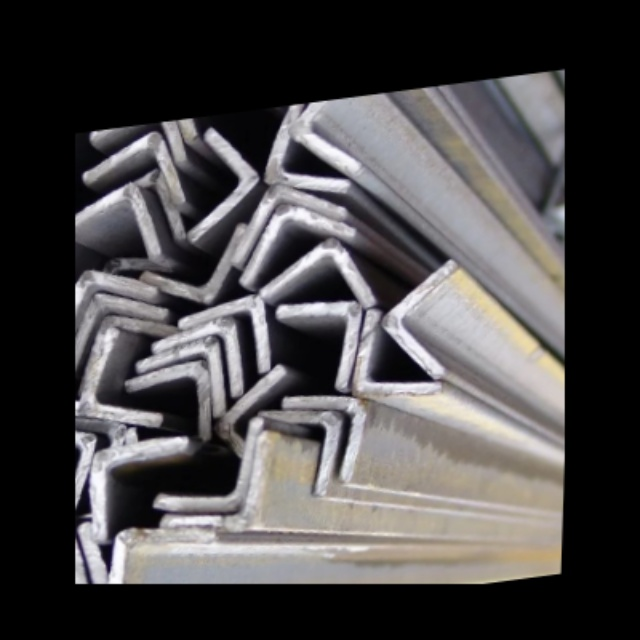Angle: (167, 441, 264, 531), (244, 202, 354, 280), (162, 425, 258, 510), (280, 296, 356, 390), (237, 186, 340, 253), (99, 444, 180, 529), (393, 267, 455, 376), (269, 242, 367, 310), (273, 101, 346, 192), (89, 133, 181, 205), (155, 324, 239, 399), (195, 131, 258, 230), (86, 338, 155, 427), (266, 404, 333, 495), (290, 395, 359, 481), (129, 368, 209, 442), (355, 318, 426, 399), (75, 292, 164, 356), (186, 300, 264, 372), (113, 526, 205, 584), (156, 232, 237, 295), (147, 347, 221, 415), (75, 270, 149, 337), (75, 188, 153, 250), (297, 97, 356, 174), (229, 376, 280, 453), (94, 120, 180, 165)
